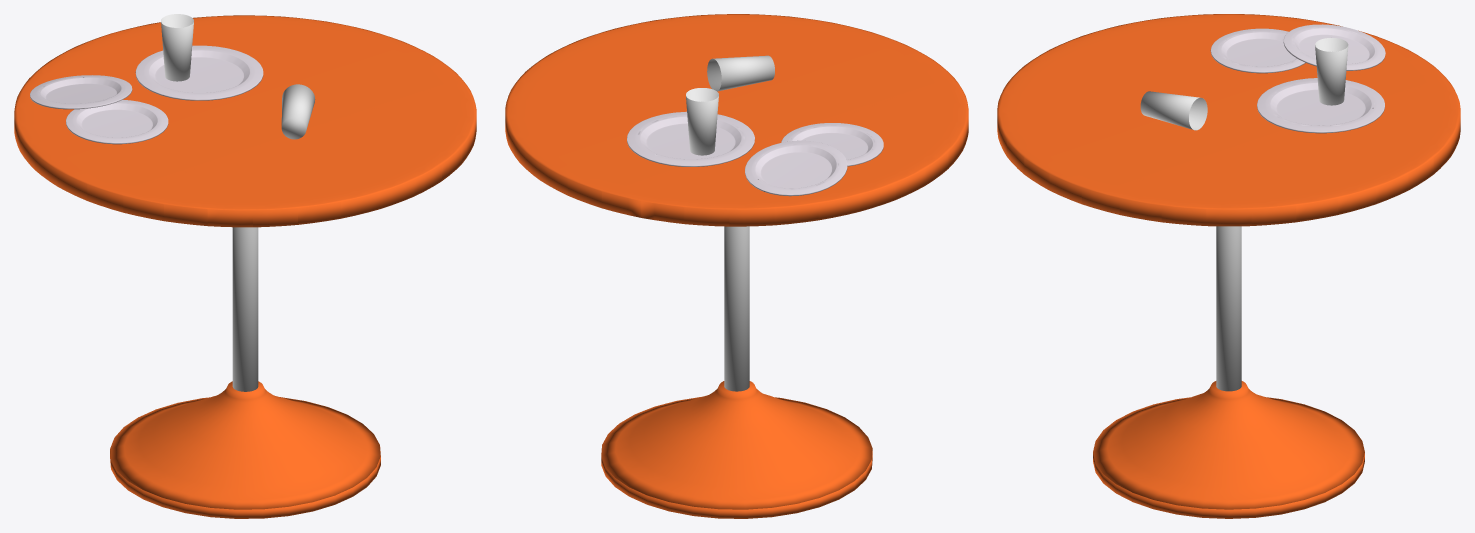
The model's file is plasticTable.fbx.
The picture shows the model from 3 angles, left to right: view 1: azimuth 30°, elevation 25°; view 2: azimuth 150°, elevation 25°; view 3: azimuth 270°, elevation 25°; orthographic projection.
Parts seen in each view (by area): view 1: tabletop, tableFootCone, plate1, tablePole, plate1.001, plate1.002, tableFoot, glass2, glass1; view 2: tabletop, tableFootCone, plate1, plate1.002, tablePole, tableFoot, plate1.001, glass1, glass2; view 3: tabletop, tableFootCone, plate1, tablePole, plate1.001, plate1.002, tableFoot, glass2, glass1.
Part boxes in pixels (box(x1,y1,x2,y2)): tabletop: box(14, 15, 476, 227); tableFootCone: box(110, 381, 380, 509); plate1: box(135, 45, 263, 100); tablePole: box(232, 227, 258, 391); plate1.001: box(66, 100, 168, 144); plate1.002: box(30, 75, 132, 109); tableFoot: box(110, 417, 380, 518); glass2: box(161, 14, 193, 81); glass1: box(281, 84, 315, 139); tabletop: box(505, 14, 968, 226); tableFootCone: box(601, 381, 872, 509); plate1: box(627, 111, 754, 166); plate1.002: box(745, 140, 847, 196); tablePole: box(724, 226, 749, 391); tableFoot: box(601, 425, 872, 518); plate1.001: box(781, 123, 883, 166); glass1: box(707, 55, 774, 91); glass2: box(686, 88, 718, 155); tabletop: box(997, 14, 1460, 226); tableFootCone: box(1093, 381, 1364, 509); plate1: box(1257, 78, 1384, 133); tablePole: box(1216, 226, 1241, 391); plate1.001: box(1210, 28, 1305, 73); plate1.002: box(1283, 24, 1385, 70); tableFoot: box(1093, 415, 1364, 518); glass2: box(1315, 37, 1348, 105); glass1: box(1140, 91, 1207, 130).
Bounding box in the file's own units: 0.9042 × 0.88 × 0.9042.
